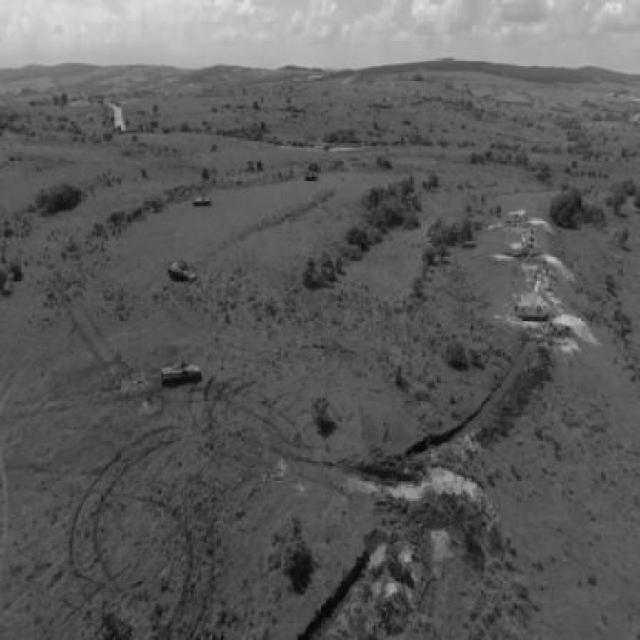Vehicle: (160, 360, 200, 384), (166, 259, 195, 283), (191, 193, 214, 207), (305, 172, 319, 181)
